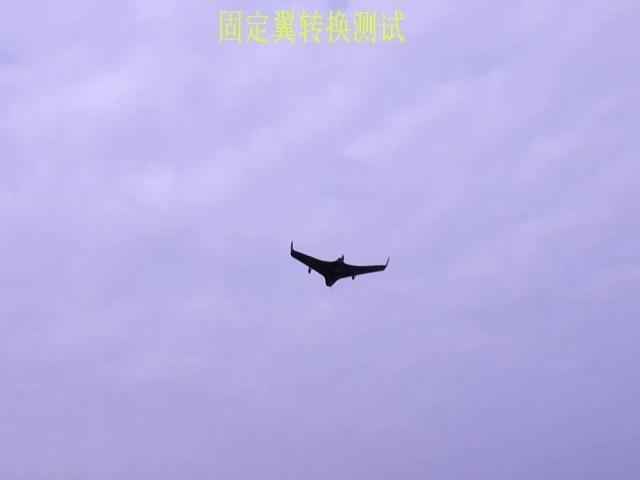Airplane: (289, 239, 391, 289)
